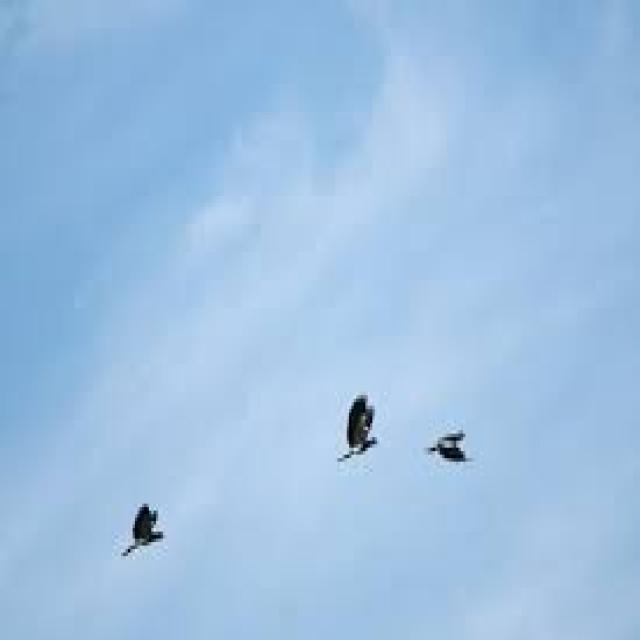bird: (113, 442, 234, 621), (313, 344, 418, 478), (420, 390, 476, 484)
